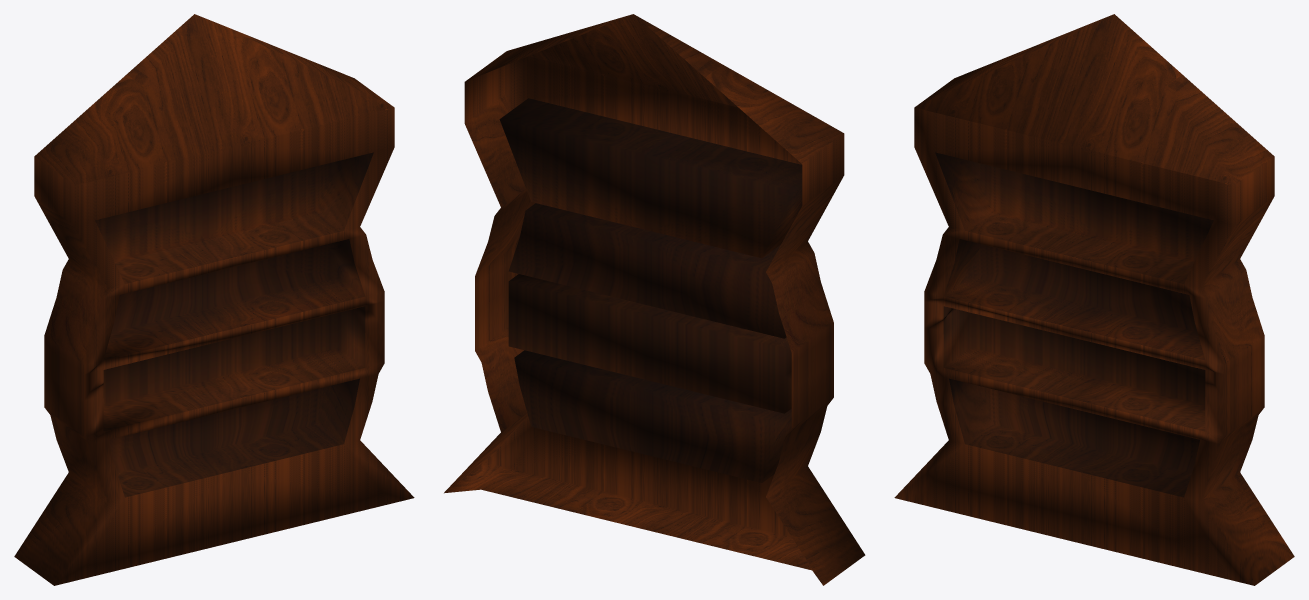
The model's file is libreria.fbx.
3 renders of one model, left to right at view 1: azimuth 30°, elevation 25°; view 2: azimuth 150°, elevation 25°; view 3: azimuth 330°, elevation 25°, orthographic. The views are drawn at different scales.
Parts seen in each view (by area): view 1: Cube.012; view 2: Cube.012; view 3: Cube.012.
Boxes of the visible parts, x1,y1,x2,y2 form: Cube.012: [14, 14, 414, 585]; Cube.012: [444, 14, 865, 585]; Cube.012: [894, 14, 1294, 585].
Bounding box in the file's own units: 531 × 702 × 102.
